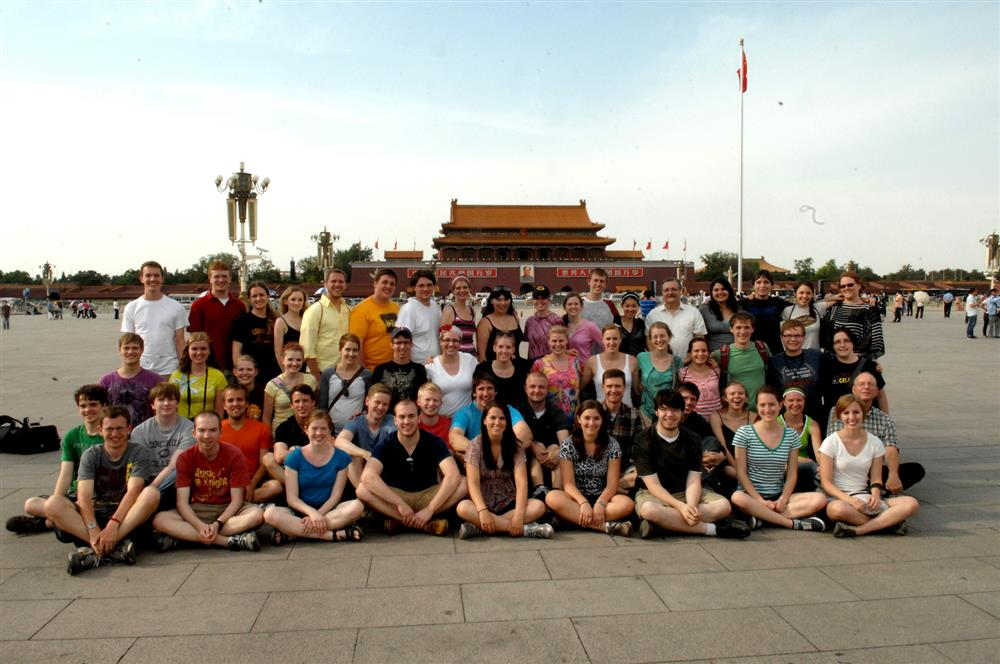Tiananmen: (344, 196, 696, 294)
